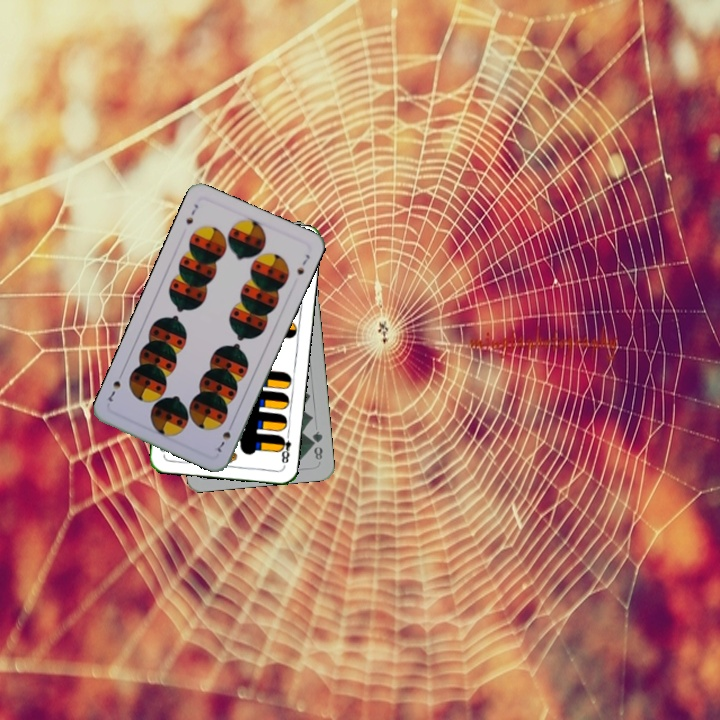E8: (275, 428, 293, 466)
G8: (308, 427, 325, 463)
S7: (213, 418, 236, 455), (182, 200, 201, 227)
